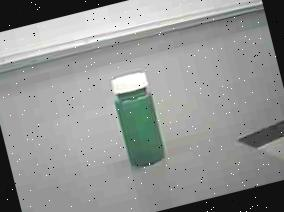Bottle C: (92, 62, 184, 180)
